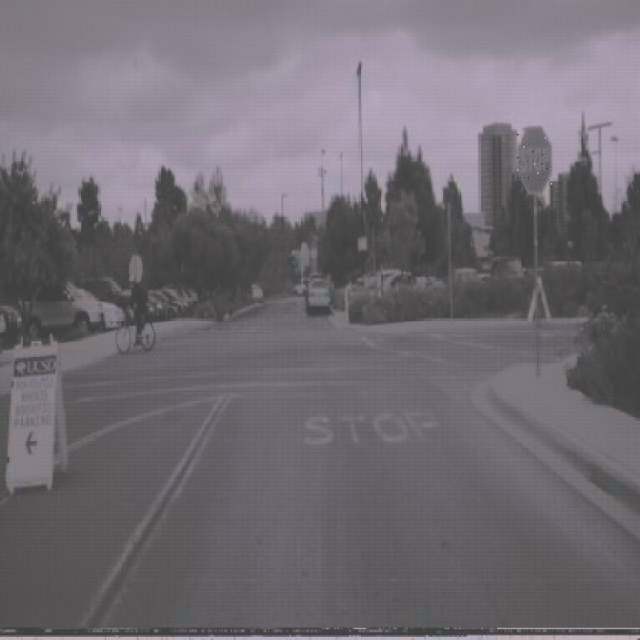stop: (517, 124, 553, 196)
